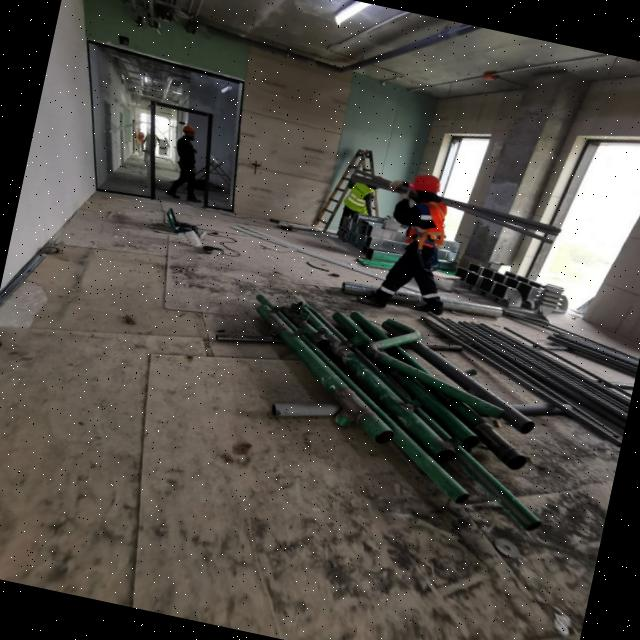Helmet: (407, 171, 445, 205), (181, 126, 198, 143)
